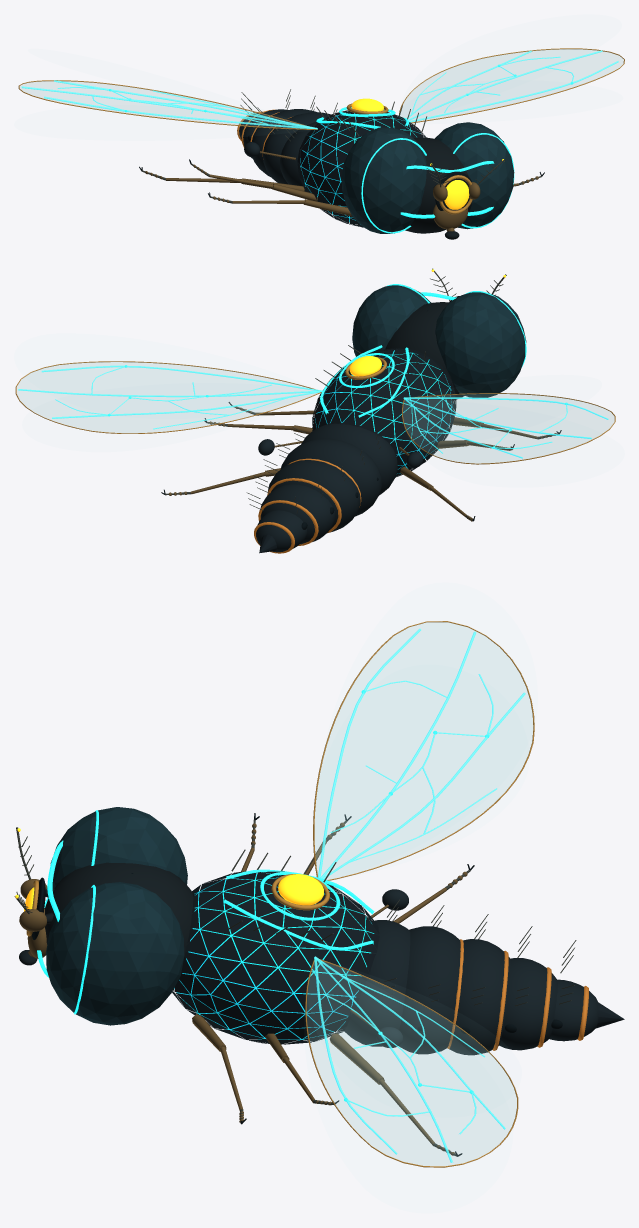
The model's file is mirror-gap-v4.1.0.glb.
3 renders of one model, top to bottom at view 1: azimuth 30°, elevation 25°; view 2: azimuth 150°, elevation 25°; view 3: azimuth 270°, elevation 25°, orthographic. The views are drawn at different scales.
Parts seen in each view (by area): view 1: Thin_wing_membrane (×2), Separate_head_Left_compound_eye_batch, Faceted_obsidian_thorax, Horizontal_segmented_abdomen_Abdominal_segment_1_batch, Left_single_membrane_wing_Cyan_neural_wing_vein_1_batch, Head_capsule, Right_single_membrane_wing_Cyan_neural_wing_vein_1_batch, Costal_wing_gold_edge (×2), Separate_head_Cyan_compound_eye_rim_batch, Thorax_inner_cyan_fissures, Femur (×2), Facial_amber_core (+3 smaller); view 2: Thin_wing_membrane (×2), Horizontal_segmented_abdomen_Abdominal_segment_1_batch, Separate_head_Left_compound_eye_batch, Faceted_obsidian_thorax, Right_single_membrane_wing_Cyan_neural_wing_vein_1_batch, Head_capsule, Thorax_inner_cyan_fissures, Costal_wing_gold_edge (×2), Left_single_membrane_wing_Cyan_neural_wing_vein_1_batch, Horizontal_segmented_abdomen_Amber_tergite_seam_1_batch, Thorax_pitch_and_bank_Dorsal_core_cyan_fissure_batch, Dorsal_amber_core (+1 smaller); view 3: Thin_wing_membrane (×2), Faceted_obsidian_thorax, Separate_head_Left_compound_eye_batch, Horizontal_segmented_abdomen_Abdominal_segment_1_batch, Thorax_inner_cyan_fissures, Head_capsule, Left_single_membrane_wing_Cyan_neural_wing_vein_1_batch, Right_single_membrane_wing_Cyan_neural_wing_vein_1_batch, Costal_wing_gold_edge (×2), Thorax_pitch_and_bank_Dorsal_core_cyan_fissure_batch, Horizontal_segmented_abdomen_Amber_tergite_seam_1_batch, Separate_head_Cyan_compound_eye_rim_batch (+1 smaller).
Boxes of the visible parts, x1,y1,x2,y2 form: Thin_wing_membrane (×2): (20, 49, 623, 128); Separate_head_Left_compound_eye_batch: (341, 122, 514, 233); Faceted_obsidian_thorax: (297, 110, 426, 227); Horizontal_segmented_abdomen_Abdominal_segment_1_batch: (239, 109, 331, 191); Left_single_membrane_wing_Cyan_neural_wing_vein_1_batch: (21, 80, 317, 129); Head_capsule: (405, 137, 471, 233); Right_single_membrane_wing_Cyan_neural_wing_vein_1_batch: (406, 50, 618, 122); Costal_wing_gold_edge (×2): (18, 48, 624, 129); Separate_head_Cyan_compound_eye_rim_batch: (361, 133, 514, 233); Thorax_inner_cyan_fissures: (300, 113, 420, 221); Femur (×2): (272, 183, 351, 216); Facial_amber_core: (444, 180, 469, 209); Thin_wing_membrane (×2): (17, 362, 614, 463); Horizontal_segmented_abdomen_Abdominal_segment_1_batch: (256, 423, 397, 552); Separate_head_Left_compound_eye_batch: (352, 285, 526, 397); Faceted_obsidian_thorax: (312, 348, 456, 477); Right_single_membrane_wing_Cyan_neural_wing_vein_1_batch: (18, 365, 322, 429); Head_capsule: (384, 302, 464, 399); Thorax_inner_cyan_fissures: (315, 350, 453, 473); Costal_wing_gold_edge (×2): (15, 361, 615, 464); Left_single_membrane_wing_Cyan_neural_wing_vein_1_batch: (403, 397, 608, 458); Horizontal_segmented_abdomen_Amber_tergite_seam_1_batch: (254, 458, 361, 553); Thorax_pitch_and_bank_Dorsal_core_cyan_fissure_batch: (320, 345, 409, 417); Dorsal_amber_core: (349, 356, 381, 376); Thin_wing_membrane (×2): (307, 622, 532, 1165); Faceted_obsidian_thorax: (172, 871, 379, 1044); Separate_head_Left_compound_eye_batch: (46, 807, 187, 1025); Horizontal_segmented_abdomen_Abdominal_segment_1_batch: (344, 920, 598, 1055); Thorax_inner_cyan_fissures: (174, 873, 374, 1040); Head_capsule: (45, 862, 194, 979); Left_single_membrane_wing_Cyan_neural_wing_vein_1_batch: (318, 628, 525, 878); Right_single_membrane_wing_Cyan_neural_wing_vein_1_batch: (314, 956, 505, 1162); Costal_wing_gold_edge (×2): (305, 621, 534, 1167); Thorax_pitch_and_bank_Dorsal_core_cyan_fissure_batch: (224, 869, 374, 950); Horizontal_segmented_abdomen_Amber_tergite_seam_1_batch: (447, 939, 588, 1050); Separate_head_Cyan_compound_eye_rim_batch: (37, 810, 98, 1014).
Bounding box in the file's own units: 2.27 × 0.7413 × 1.43.
